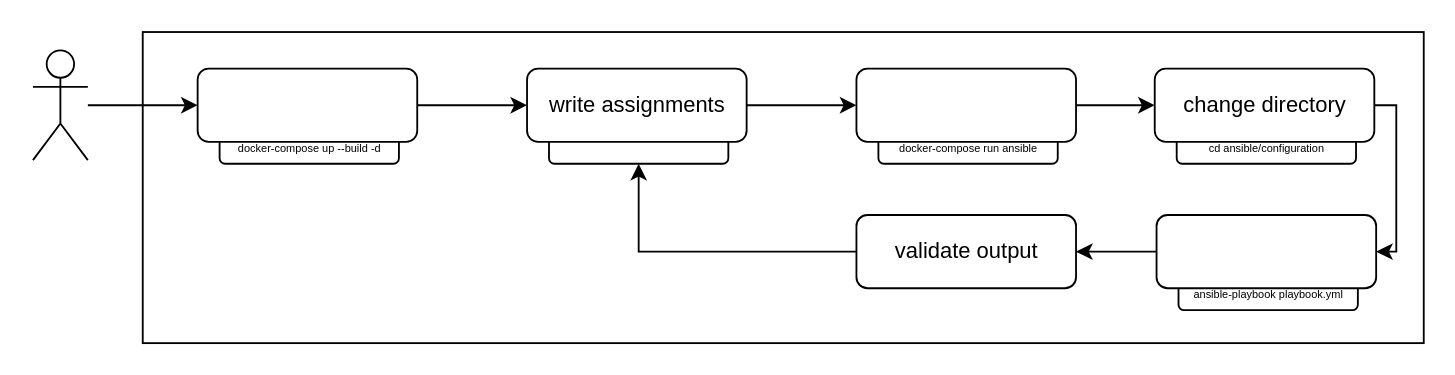
Image size: 1455x375. Some labels were removed from this diagram. The centre of each missing label's shape, as x and y in pixels:
"access ansible environment" belongs at (965,104).
"execute ansible-playbook command" belongs at (1265,250).
"in configuration/playbook.yml" belongs at (637,144).
"start Docker service containers" belongs at (306,104).
